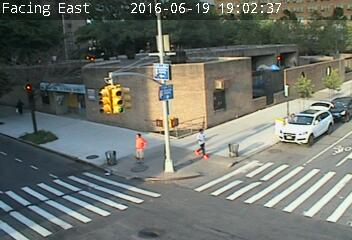neg: (153, 36, 180, 71), (201, 58, 225, 90), (288, 159, 311, 190), (48, 179, 70, 208), (222, 139, 244, 167), (97, 138, 118, 166), (255, 49, 276, 77), (158, 88, 177, 113), (125, 188, 143, 212), (101, 85, 118, 109), (37, 132, 54, 154), (291, 111, 307, 133), (53, 99, 68, 120), (29, 66, 44, 85)
pos: (125, 130, 149, 162), (191, 125, 214, 156), (13, 99, 28, 119)
